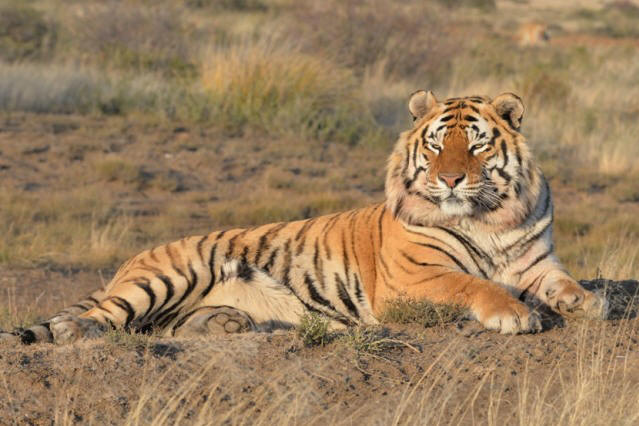Tiger: (8, 68, 635, 389)
